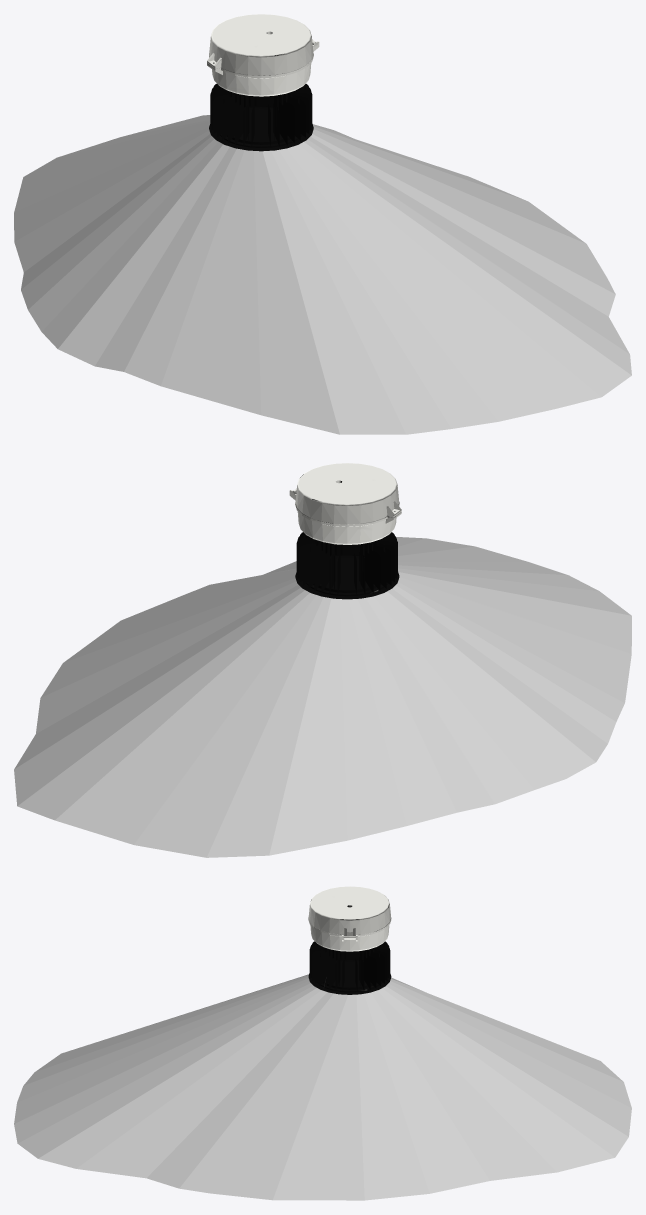
File: VMVLtype-3.obj
The picture shows the model from 3 angles, top to bottom: view 1: azimuth 30°, elevation 25°; view 2: azimuth 150°, elevation 25°; view 3: azimuth 270°, elevation 25°; orthographic projection. The views are drawn at different scales.
Parts seen in each view (by area): view 1: Cylinder, VMV7L2HA_UNV1_; view 2: Cylinder, VMV7L2HA_UNV1_; view 3: Cylinder, VMV7L2HA_UNV1_.
Boxes of the visible parts, x1=… form: Cylinder: x1=14, y1=115, x2=631, y2=434; VMV7L2HA_UNV1_: x1=207, y1=14, x2=319, y2=151; Cylinder: x1=14, y1=537, x2=631, y2=857; VMV7L2HA_UNV1_: x1=289, y1=463, x2=401, y2=599; Cylinder: x1=14, y1=974, x2=631, y2=1200; VMV7L2HA_UNV1_: x1=308, y1=886, x2=391, y2=994.
Size of the model in its own units: 56.25 by 26.05 by 75.54.
Materials: 3 (1 with a texture image).
